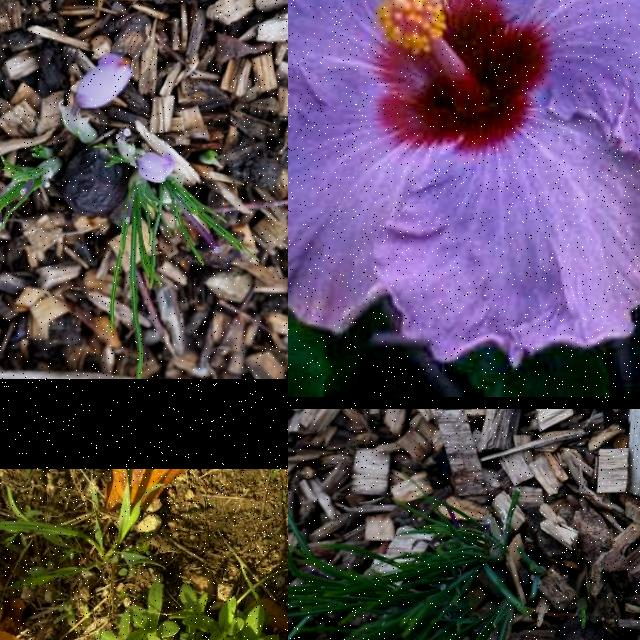flower: (78, 54, 134, 110), (138, 153, 176, 183)
